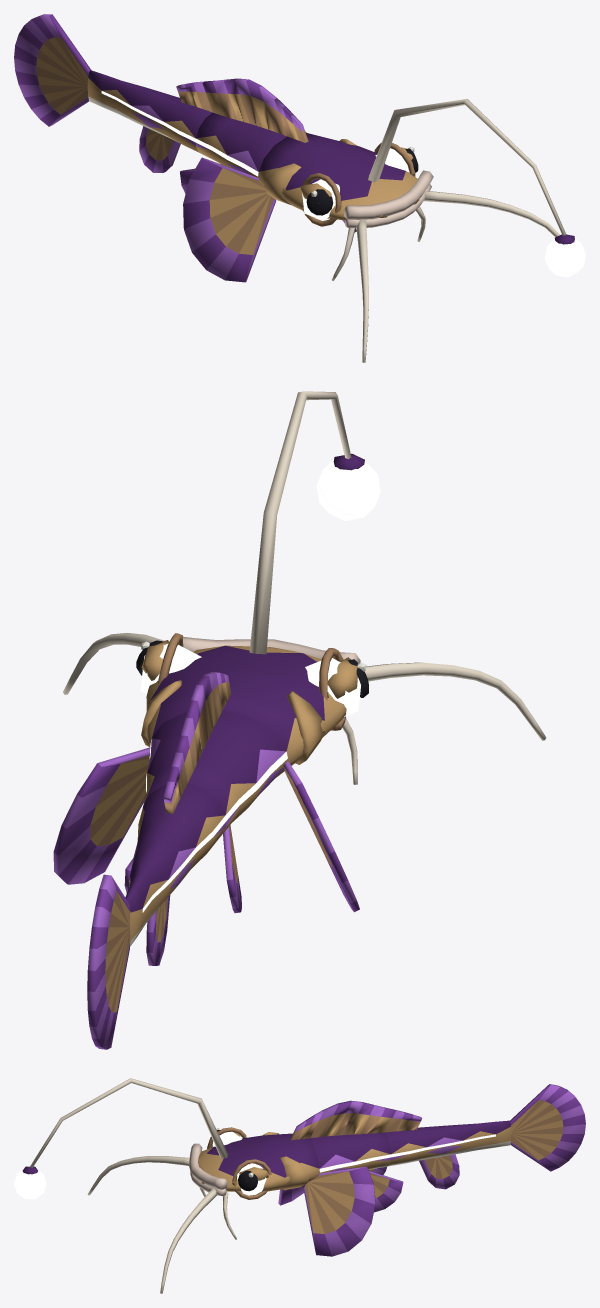
Rendered from carp-lamp-barbel.glb.
3 renders of one model, top to bottom at view 1: azimuth 30°, elevation 25°; view 2: azimuth 150°, elevation 25°; view 3: azimuth 270°, elevation 25°, orthographic. The views are drawn at different scales.
Visible parts, largest first — view 1: carp_head, glide_fin_r, wag_body_0, wag_body_1, wag_body_2, sway_rod, sway_barbel_l, sway_barbel_r, blink_eye_r, pulse_gill_r, blink_eye_l; view 2: carp_head, wag_body_0, wag_body_1, glide_fin_l, sway_rod, wag_body_2, sway_barbel_r, glide_fin_r, pulse_gill_r, blink_eye_r, sway_barbel_l, blink_eye_l; view 3: carp_head, wag_body_0, wag_body_1, glide_fin_l, wag_body_2, sway_rod, sway_barbel_l, sway_barbel_r, pulse_gill_l, blink_eye_l, glide_fin_r.
Part boxes in pixels (x1=…): carp_head: x1=258, y1=98, x2=433, y2=227; glide_fin_r: x1=183, y1=157, x2=276, y2=282; wag_body_0: x1=180, y1=78, x2=286, y2=193; wag_body_1: x1=87, y1=70, x2=212, y2=172; wag_body_2: x1=14, y1=14, x2=91, y2=126; sway_rod: x1=368, y1=99, x2=585, y2=277; sway_barbel_l: x1=423, y1=191, x2=559, y2=237; sway_barbel_r: x1=356, y1=220, x2=368, y2=362; blink_eye_r: x1=302, y1=179, x2=339, y2=220; pulse_gill_r: x1=264, y1=163, x2=301, y2=204; blink_eye_l: x1=375, y1=146, x2=418, y2=172; carp_head: x1=141, y1=633, x2=360, y2=777; wag_body_0: x1=124, y1=672, x2=287, y2=913; wag_body_1: x1=125, y1=752, x2=226, y2=965; glide_fin_l: x1=53, y1=747, x2=150, y2=884; sway_rod: x1=249, y1=391, x2=380, y2=654; wag_body_2: x1=87, y1=874, x2=129, y2=1049; sway_barbel_r: x1=364, y1=662, x2=546, y2=740; glide_fin_r: x1=283, y1=761, x2=359, y2=912; pulse_gill_r: x1=287, y1=691, x2=324, y2=764; blink_eye_r: x1=305, y1=658, x2=368, y2=716; sway_barbel_l: x1=63, y1=633, x2=164, y2=694; blink_eye_l: x1=136, y1=640, x2=201, y2=693; carp_head: x1=189, y1=1110, x2=322, y2=1199; wag_body_0: x1=310, y1=1100, x2=403, y2=1212; wag_body_1: x1=385, y1=1110, x2=510, y2=1189; glide_fin_l: x1=303, y1=1166, x2=375, y2=1256; wag_body_2: x1=510, y1=1084, x2=585, y2=1171; sway_rod: x1=14, y1=1078, x2=228, y2=1199; sway_barbel_l: x1=160, y1=1188, x2=217, y2=1293; sway_barbel_r: x1=87, y1=1156, x2=189, y2=1195; pulse_gill_l: x1=280, y1=1156, x2=308, y2=1189; blink_eye_l: x1=237, y1=1163, x2=266, y2=1195; glide_fin_r: x1=278, y1=1184, x2=305, y2=1205.
Bounding box in the file's own units: 0.5119 × 0.3747 × 1.12.
